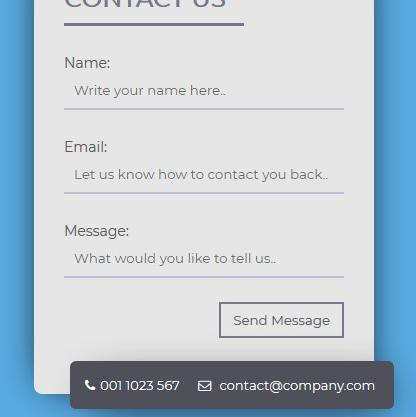button: (219, 301, 347, 338)
field_line: (64, 157, 344, 196), (61, 74, 342, 112), (60, 243, 342, 279)
field_line_with_label: (57, 54, 344, 115), (58, 222, 344, 282), (61, 138, 346, 197)
